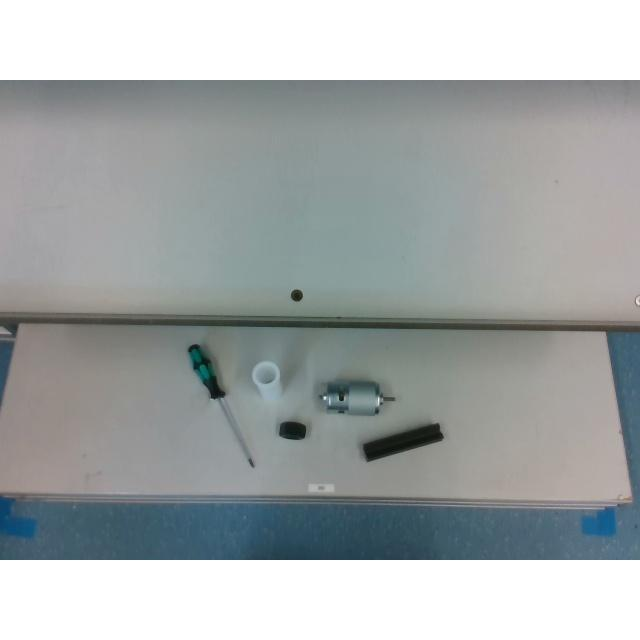F20_20_B: (362, 423, 442, 461)
M20: (278, 421, 306, 439)
Motor2: (320, 380, 394, 416)
Screwdriver: (188, 344, 254, 468)
Spacer: (251, 360, 281, 400)
